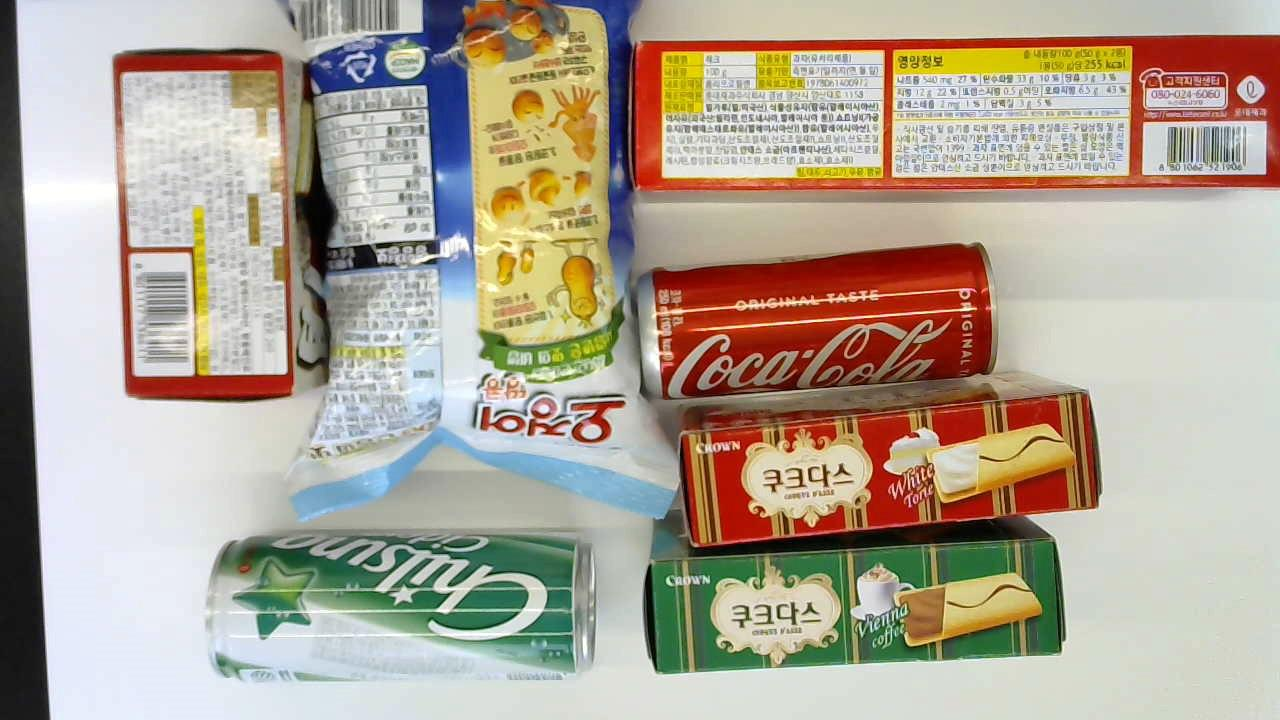chocopie: (108, 45, 330, 398)
cidar: (208, 536, 594, 684)
coke: (640, 241, 998, 403)
couque_coffee: (647, 521, 1067, 680)
couque_white: (674, 370, 1106, 546)
squid_peanut: (271, 0, 686, 520)
zec: (625, 30, 1277, 200)
